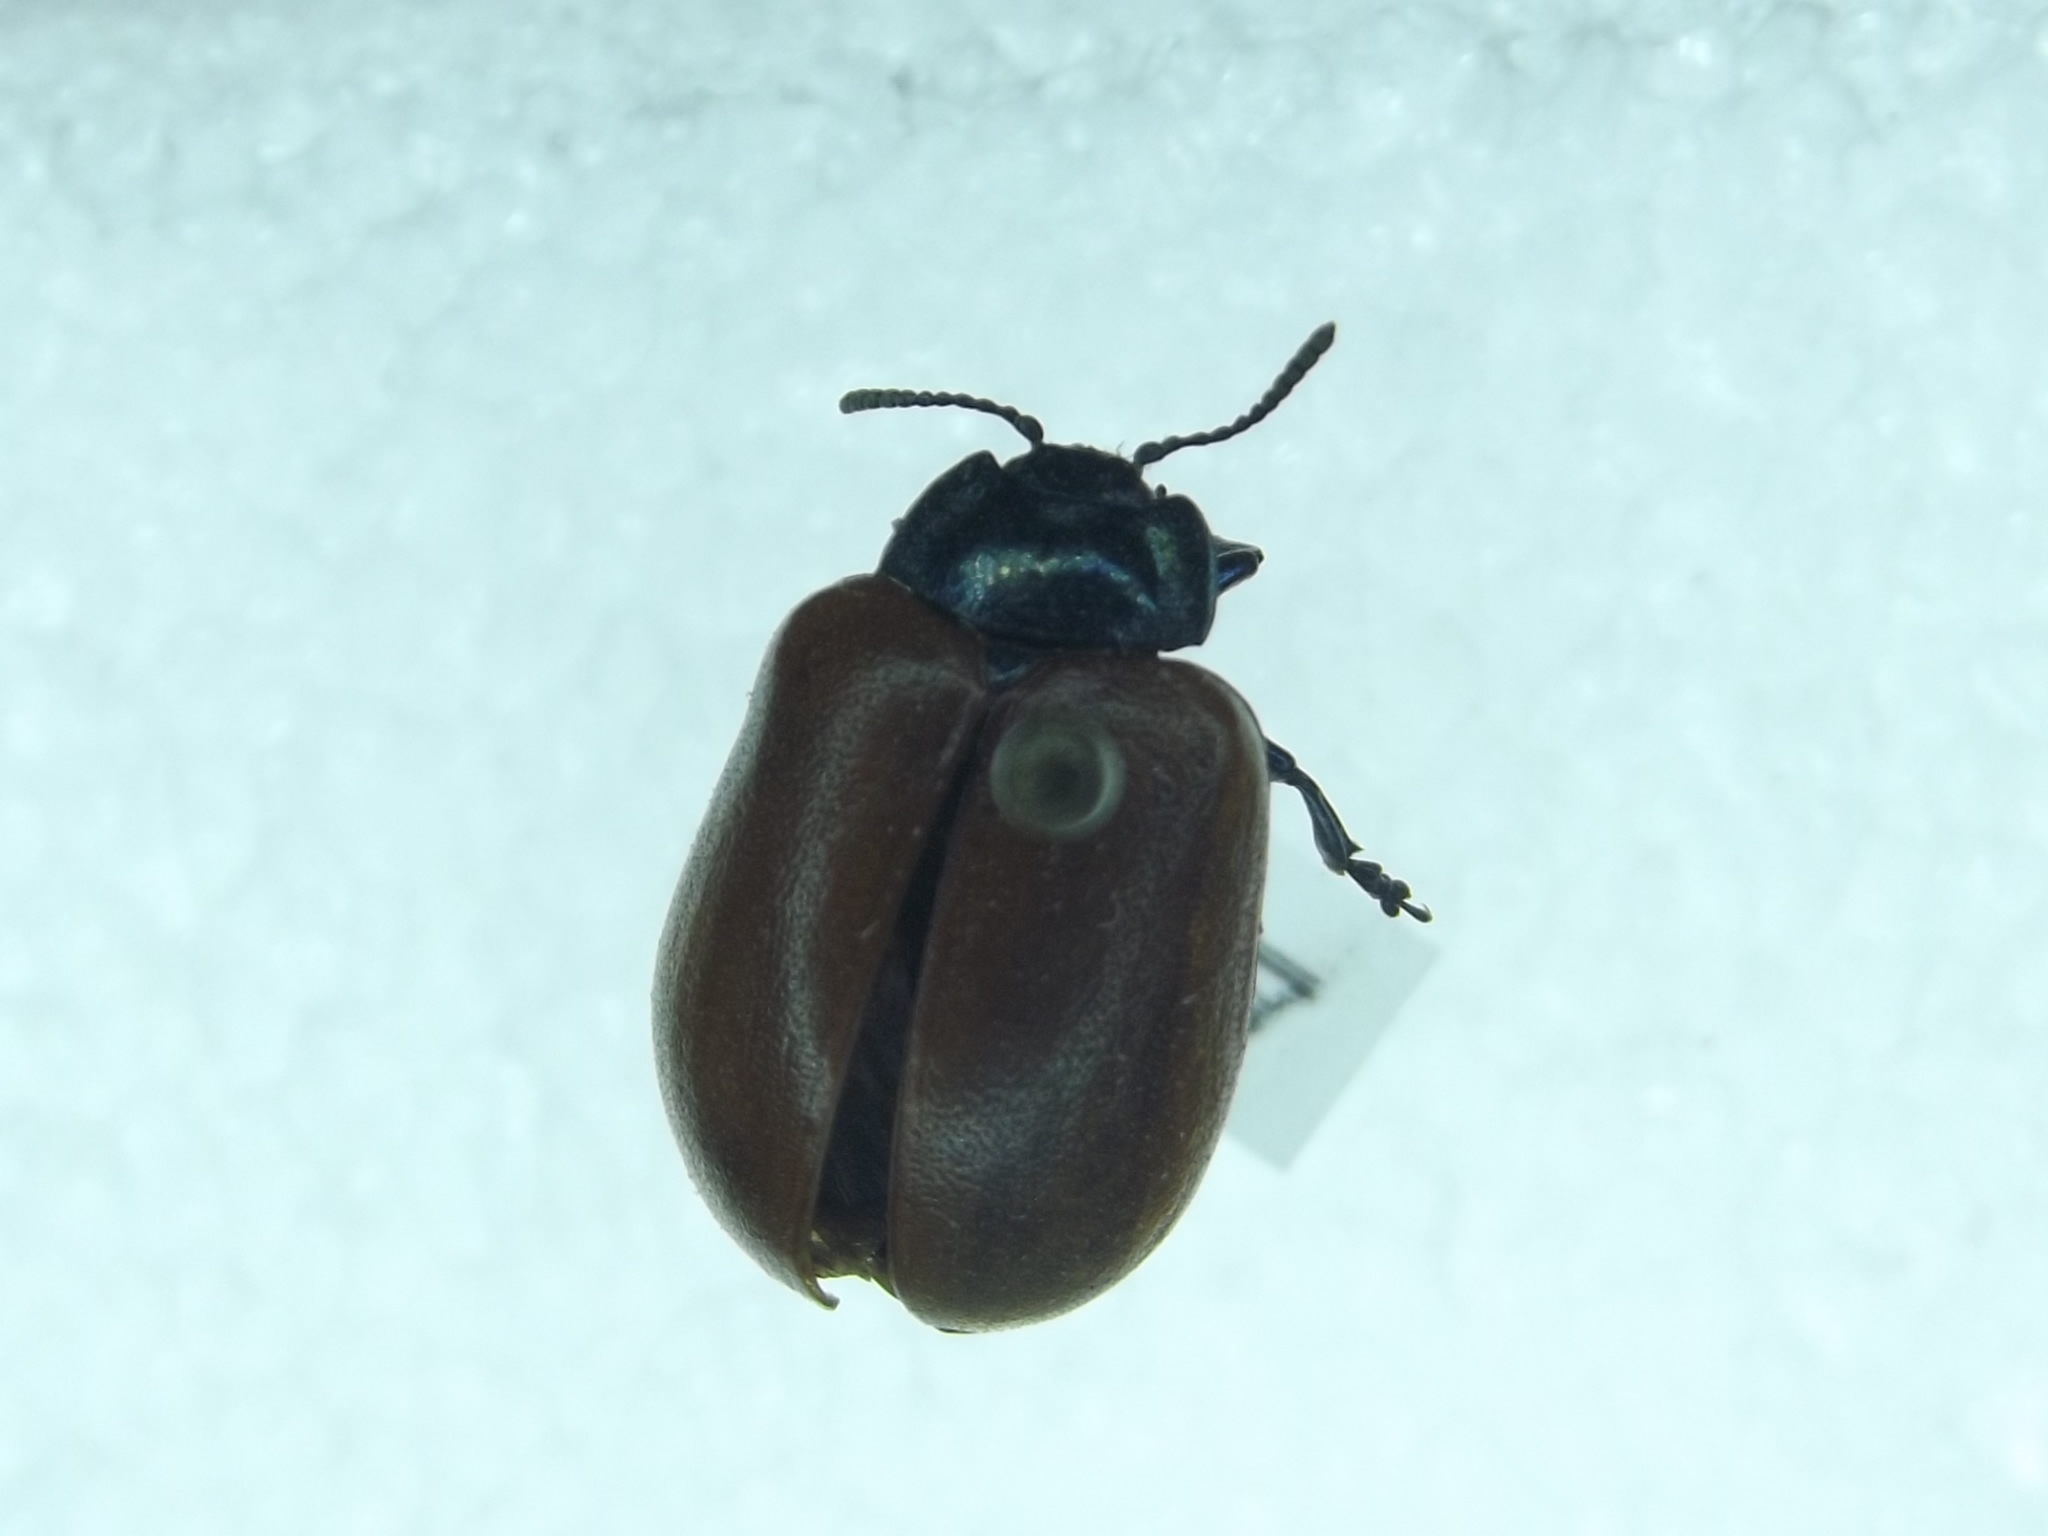Chrysomela_populi: (631, 287, 1450, 1350)
